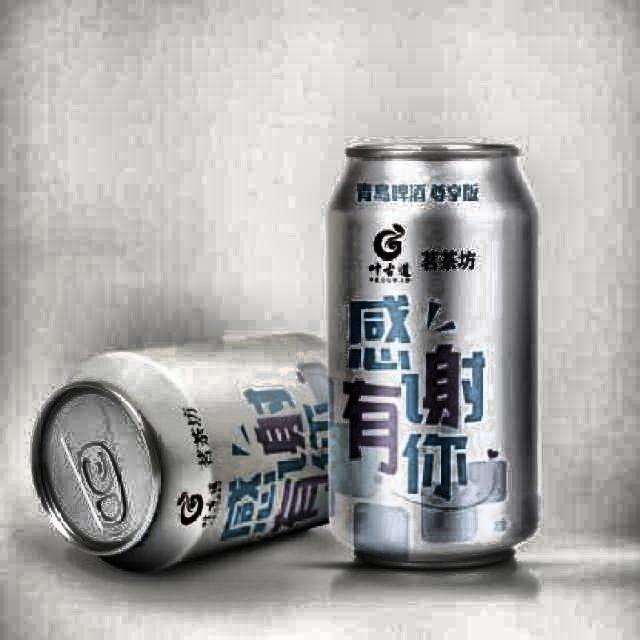can: (324, 135, 546, 573), (31, 328, 341, 575)
